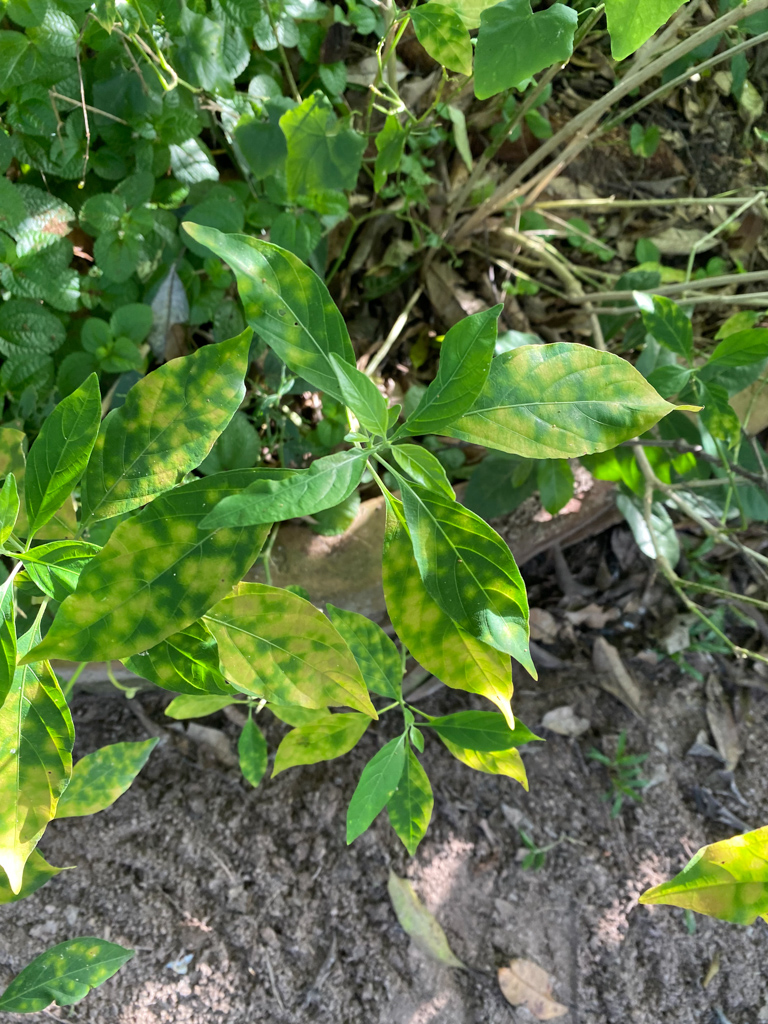Pepper yellow leaf: (16, 470, 265, 674), (377, 487, 538, 734), (66, 327, 257, 528), (458, 340, 703, 463), (216, 575, 382, 724), (3, 668, 76, 909), (623, 817, 761, 930), (6, 930, 133, 1019), (53, 729, 159, 831), (261, 704, 380, 787), (435, 721, 531, 792), (379, 749, 433, 862)
